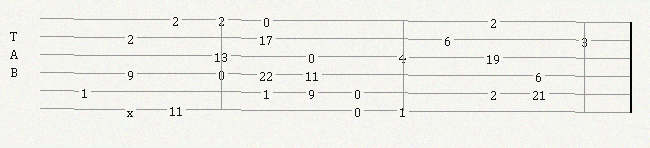0: (218, 68, 229, 81), (263, 14, 274, 27), (308, 50, 319, 63), (354, 104, 365, 117), (354, 86, 365, 99)
1: (81, 86, 92, 99), (263, 86, 274, 99), (399, 104, 410, 117)
11: (169, 104, 187, 117), (305, 68, 323, 81)
13: (214, 50, 232, 63)
17: (259, 32, 277, 45)
19: (486, 50, 504, 63)
2: (127, 32, 138, 45), (172, 14, 183, 27), (218, 14, 229, 27), (490, 14, 501, 27), (490, 86, 501, 99)
21: (532, 86, 550, 99)
22: (259, 68, 277, 81)
3: (581, 32, 592, 45)
4: (399, 50, 410, 63)
6: (444, 32, 455, 45), (535, 68, 546, 81)
9: (127, 68, 138, 81), (308, 86, 319, 99)
x: (127, 105, 137, 115)
